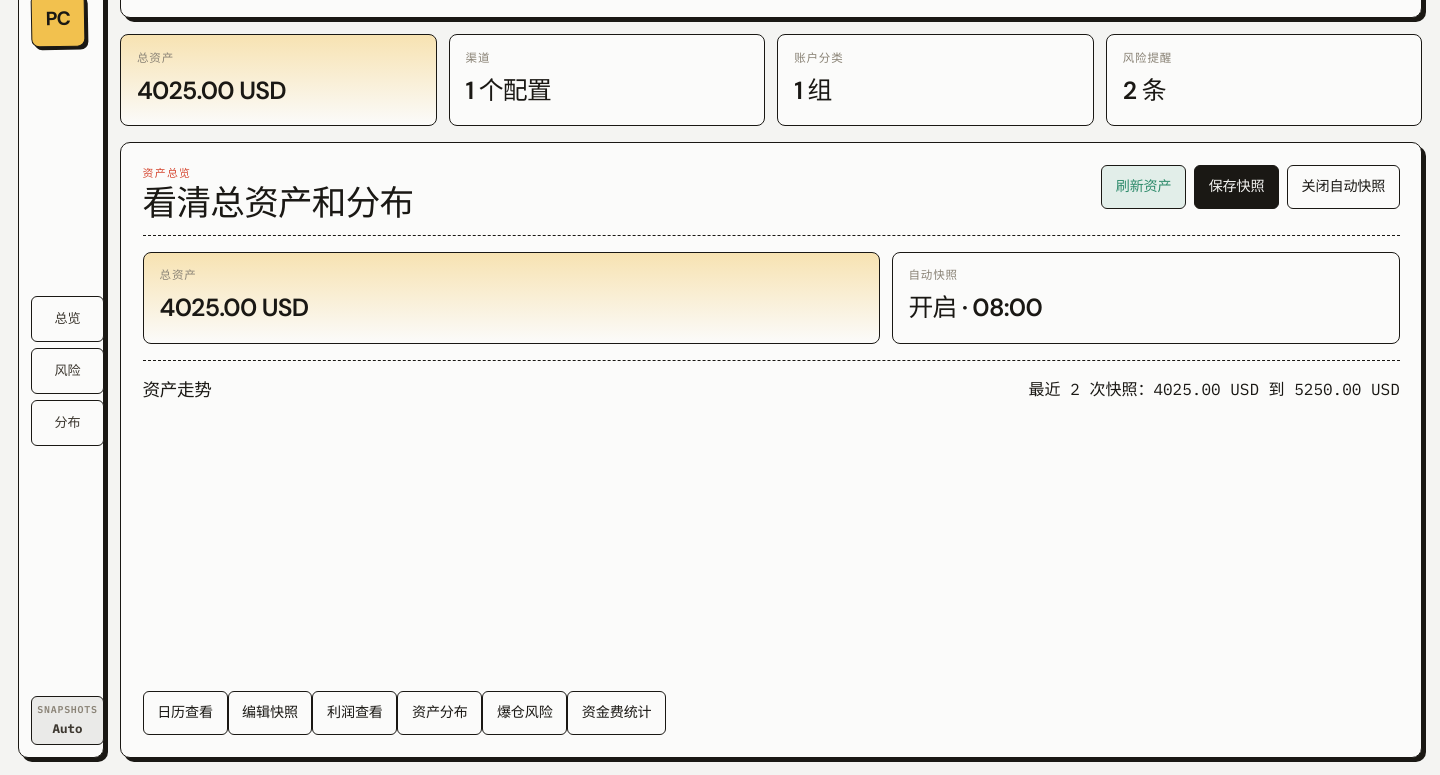
Test case: shows previous monthly funding fee collection as running
This screenshot has width=1440, height=775.
(page scrolled)
Click the button "资金费统计" at (617, 713), box [567, 691, 666, 735]
(page scrolled)
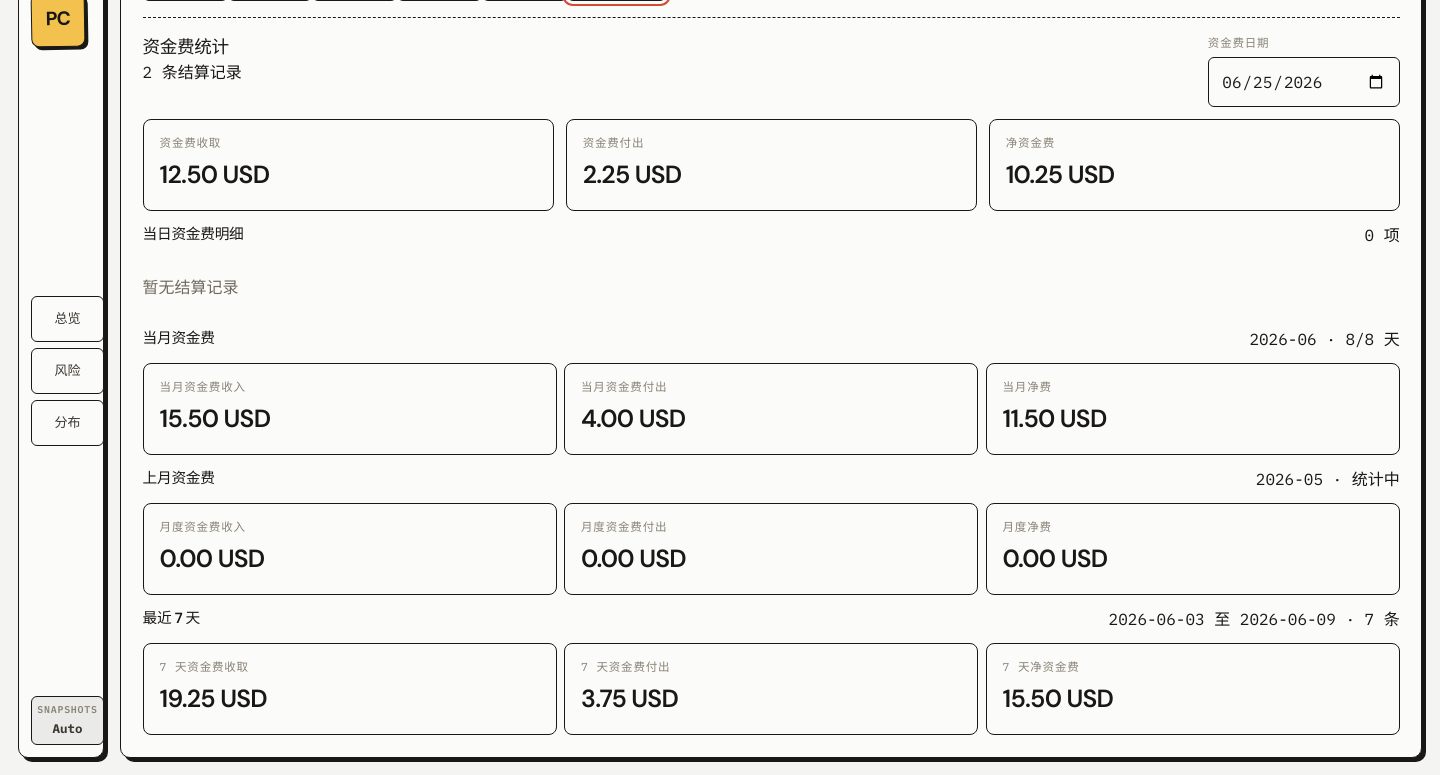
Check: the text "2026-05 · 统计中" is shown, box [1256, 467, 1400, 491]
